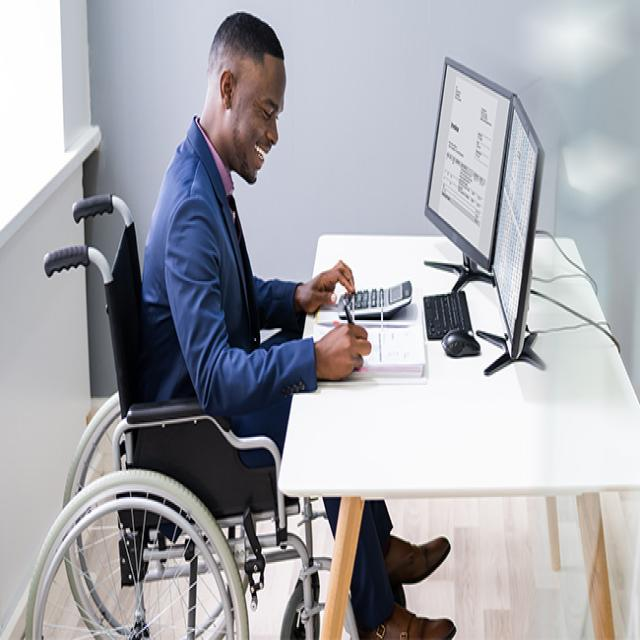wheelchairs: (16, 190, 409, 640)
